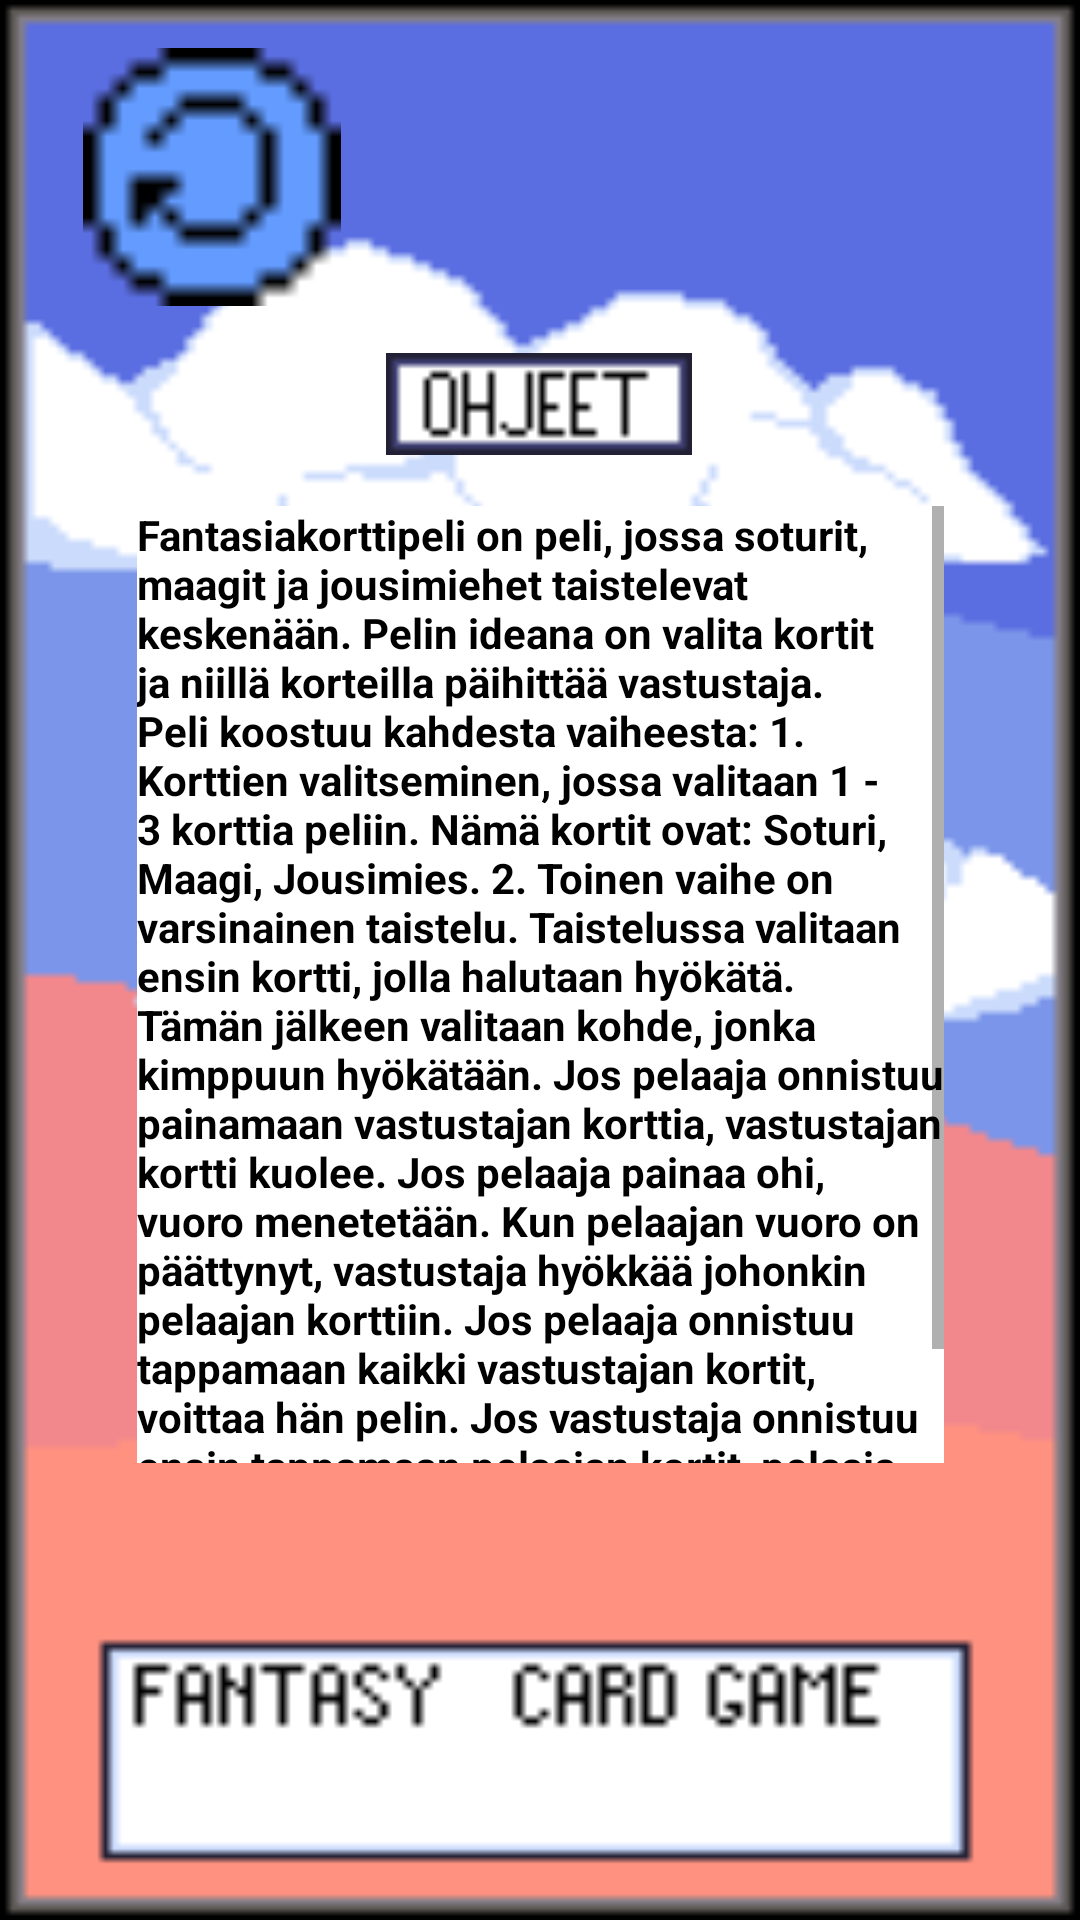

Icon bounding boxes for this 1080 x 1920 phone screenshot, format (x1, y1, x2, y2):
takaisinnappi: (83, 48, 375, 306)
